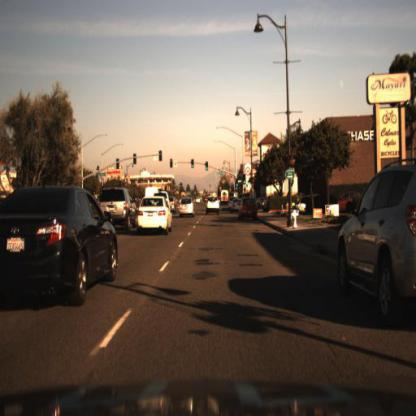car: (1, 181, 121, 306), (338, 159, 416, 330), (97, 183, 137, 229), (139, 196, 173, 236), (337, 189, 362, 213), (239, 197, 260, 224), (180, 195, 194, 220), (206, 196, 220, 219)
trafficLight-Green: (190, 157, 197, 173), (242, 172, 249, 187), (205, 161, 211, 174)
trafficLight-RedLeft: (170, 158, 175, 172)
